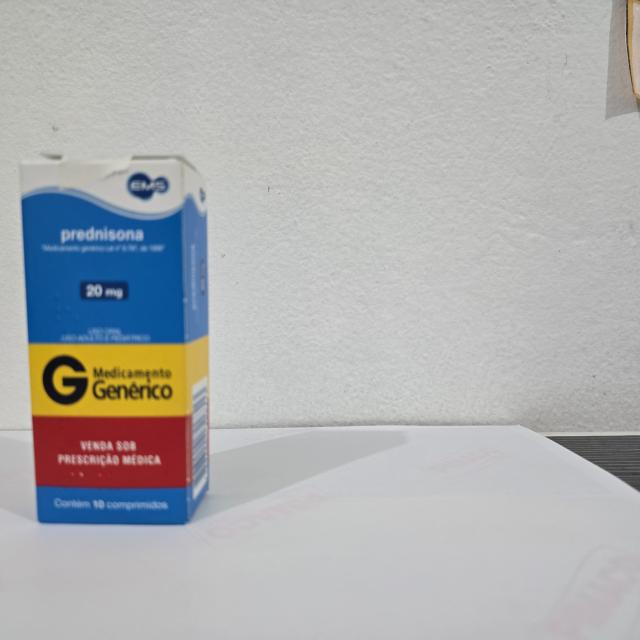prednisona: (17, 148, 214, 530)
